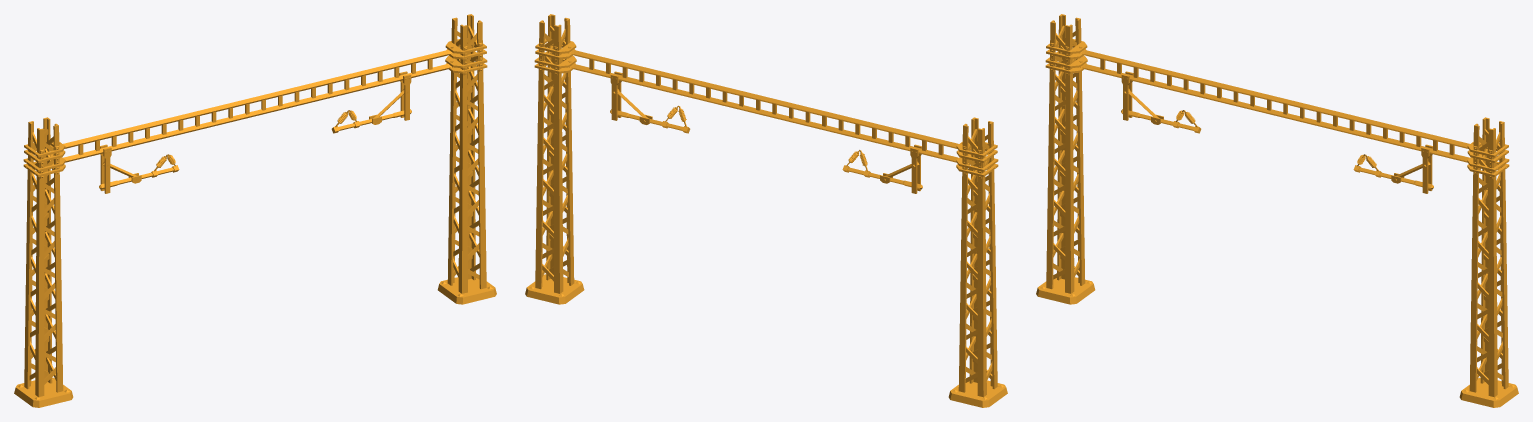
File: SM_Train_Wiring_Double_Pole.fbx
3 views of the same model, side by side, from view 1: azimuth 30°, elevation 25°; view 2: azimuth 150°, elevation 25°; view 3: azimuth 330°, elevation 25° (orthographic).
Parts seen in each view (by area): view 1: SM_Train_Wiring_Double_Pole; view 2: SM_Train_Wiring_Double_Pole; view 3: SM_Train_Wiring_Double_Pole.
Part boxes in pixels (<box>): SM_Train_Wiring_Double_Pole: <box>14,14,496,407</box>; SM_Train_Wiring_Double_Pole: <box>525,14,1007,407</box>; SM_Train_Wiring_Double_Pole: <box>1036,14,1518,407</box>.
Size of the model in its own units: 15.34 by 8.58 by 1.34.
